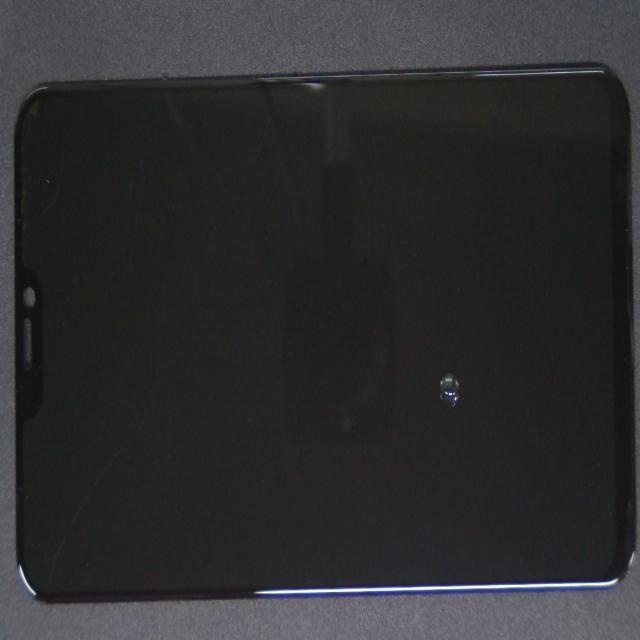oil: (236, 168, 640, 551)
